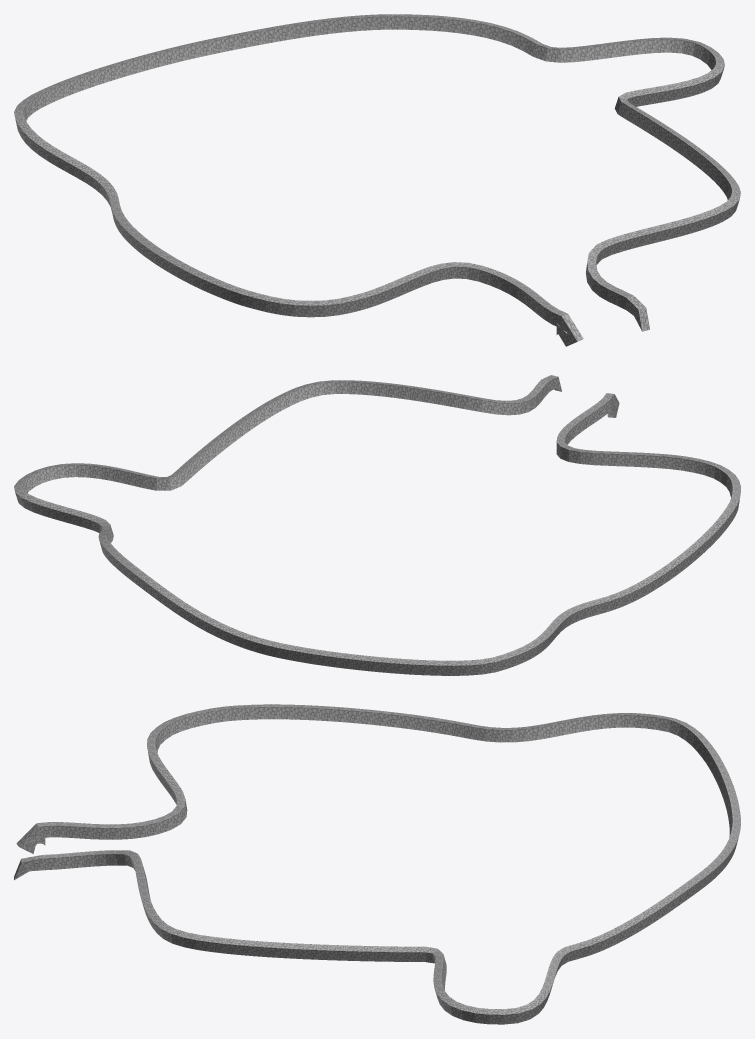
The model's file is gongon_stonewall.fbx.
The picture shows the model from 3 angles, top to bottom: view 1: azimuth 30°, elevation 25°; view 2: azimuth 150°, elevation 25°; view 3: azimuth 270°, elevation 25°; orthographic projection. The views are drawn at different scales.
Visible parts, largest first — view 1: wall; view 2: wall; view 3: wall.
Part boxes in pixels (x1,y1,x2,y2): wall: (14, 14, 740, 346); wall: (14, 375, 740, 675); wall: (14, 704, 740, 1024).
Size of the model in its own units: 130 by 7.83 by 135.
